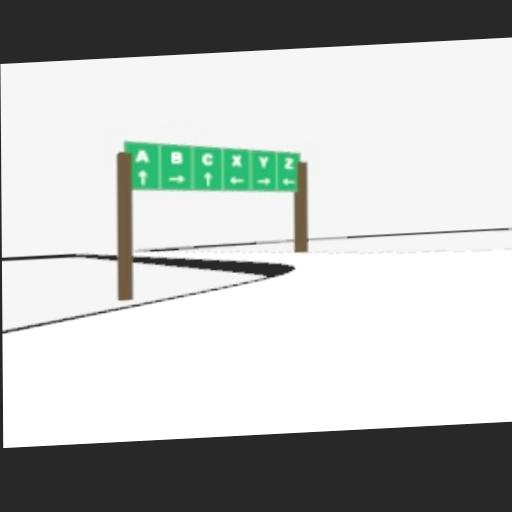A: (135, 149, 148, 163)
B: (169, 151, 181, 163)
C: (200, 152, 212, 165)
Left: (229, 174, 244, 183), (281, 176, 294, 184)
Right: (168, 174, 185, 183), (256, 177, 271, 186)
Straight: (136, 169, 146, 184), (203, 172, 211, 185)
X: (230, 155, 242, 167)
Y: (257, 154, 267, 167)
Z: (282, 157, 292, 169)
